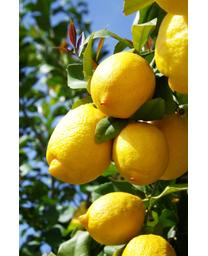lemon: (46, 103, 114, 185), (90, 53, 154, 119), (82, 191, 148, 245), (113, 123, 168, 184)
